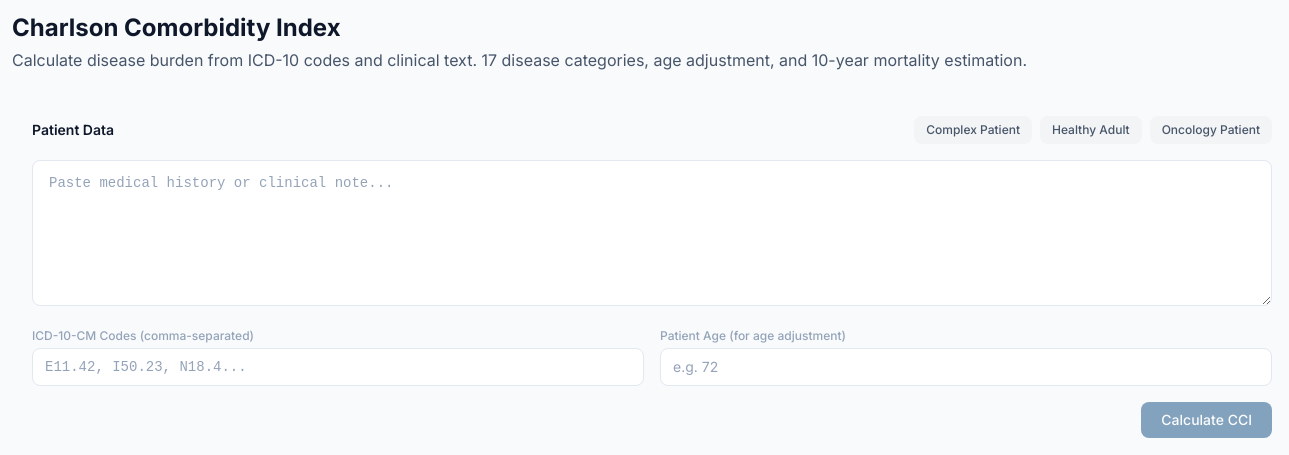
Test: ComorbidityCalculator — sample loading › loads age for sample
The image size is (1289, 455).
Click the button "Complex Patient" at (973, 130), box x1=914 y1=116 x2=1032 y2=144
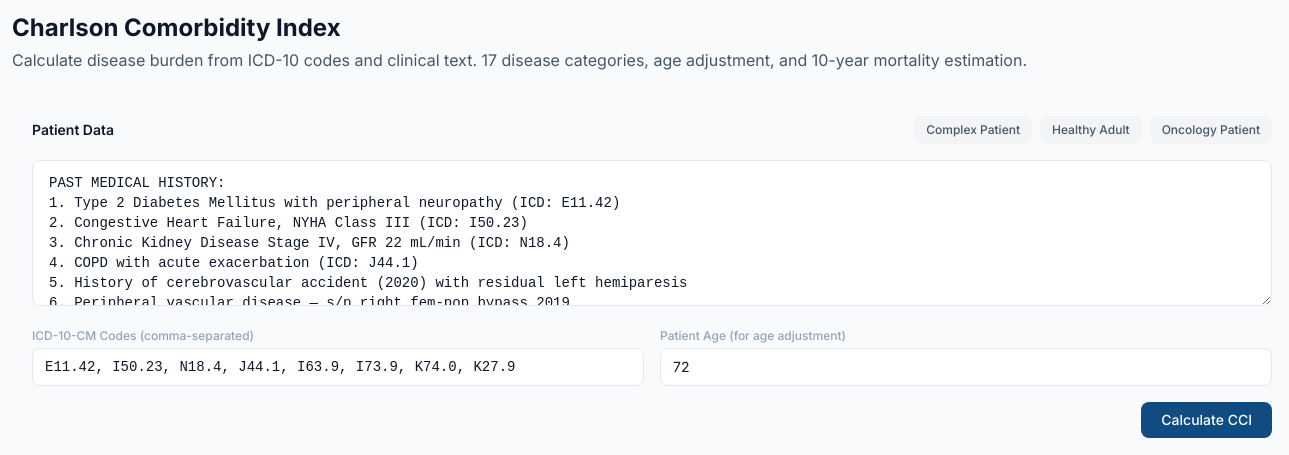
expect the number field with placeholder "e.g. 72" holds "72": met, box x1=660 y1=348 x2=1272 y2=386
